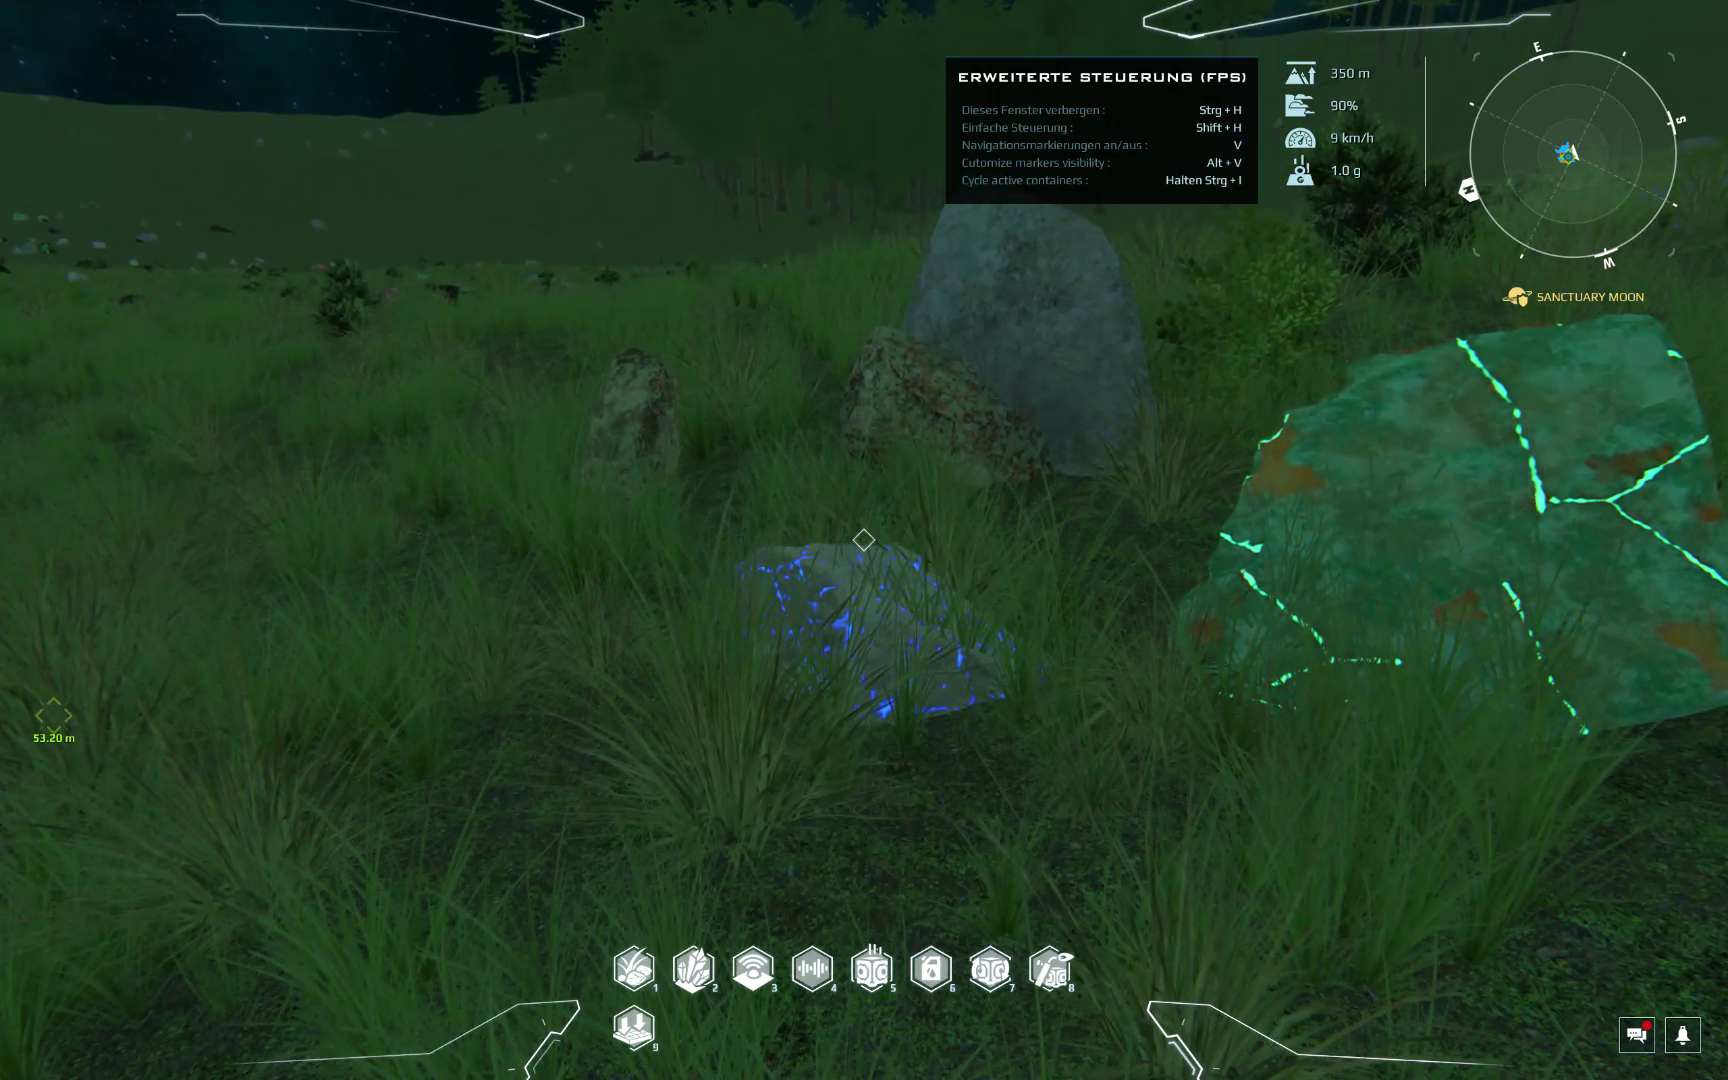Ore: (1157, 310, 1728, 743), (732, 539, 1062, 725), (831, 327, 1054, 493), (580, 345, 681, 490)
